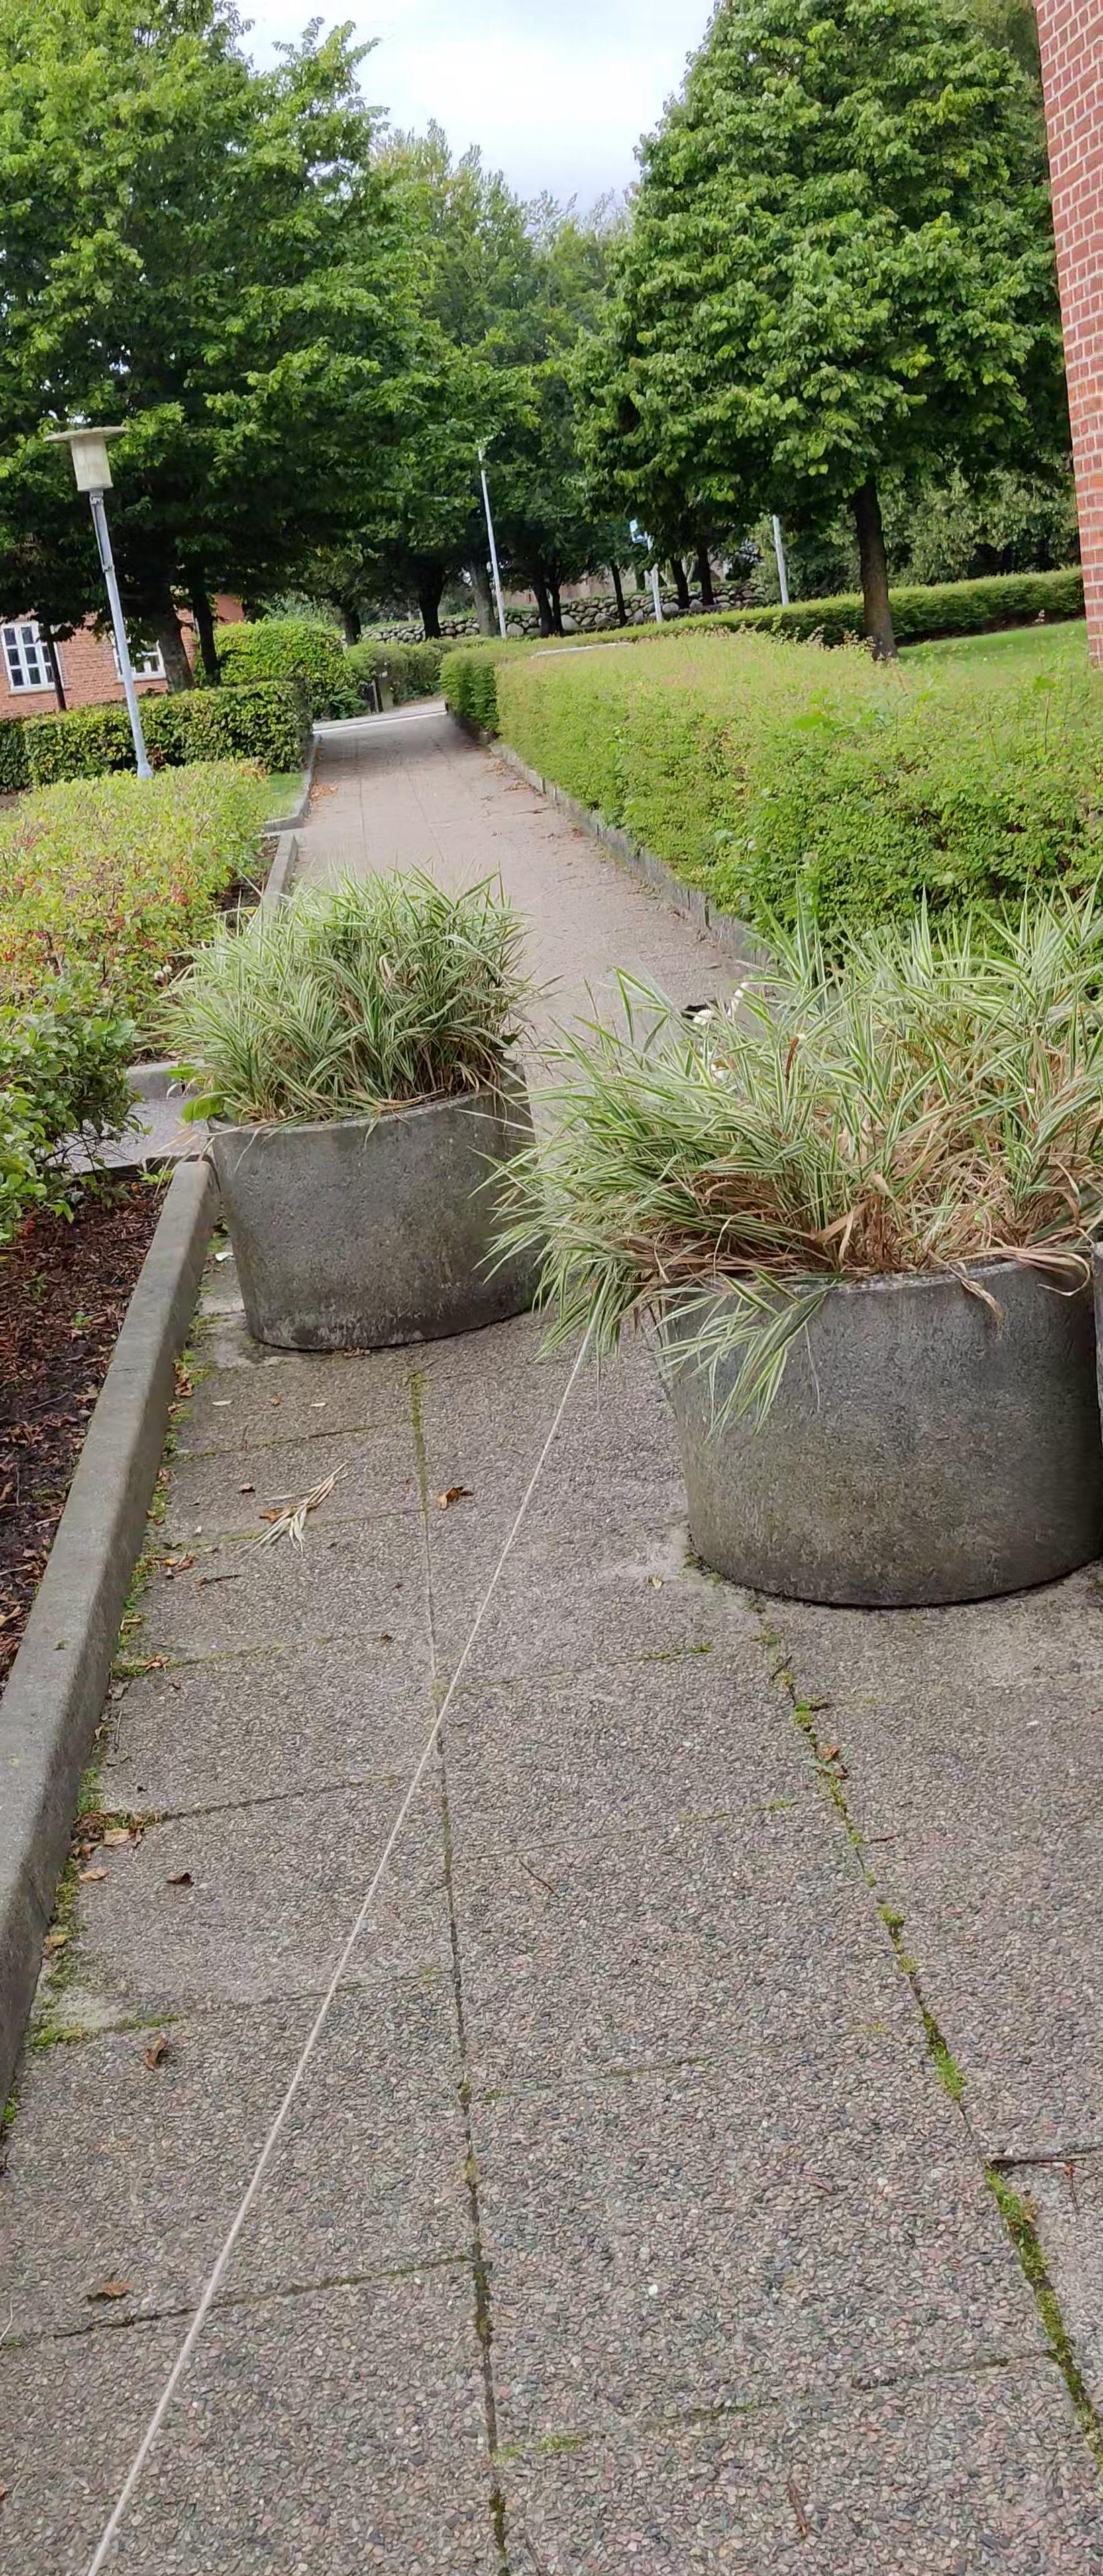Dog: (676, 979, 759, 1078)
